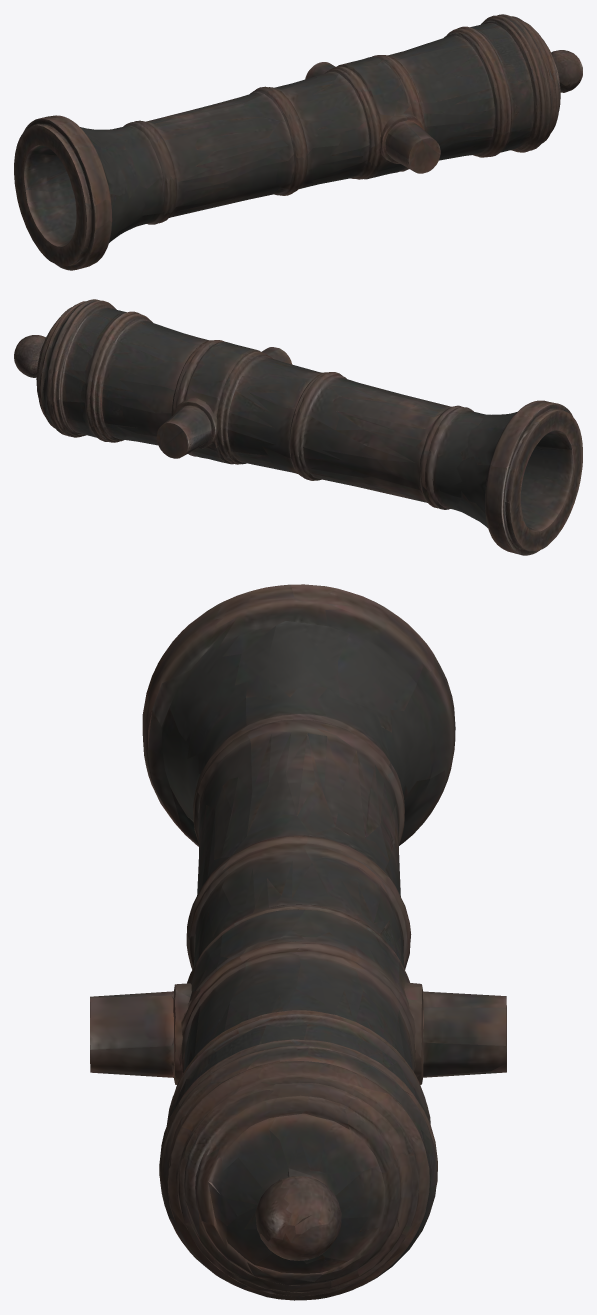
File: pirat-rohr.glb
3 renders of one model, top to bottom at view 1: azimuth 30°, elevation 25°; view 2: azimuth 150°, elevation 25°; view 3: azimuth 270°, elevation 25°, orthographic. The views are drawn at different scales.
Visible parts, largest first — view 1: Mesh_0; view 2: Mesh_0; view 3: Mesh_0.
Boxes of the visible parts, box(x1,y1,x2,y2) form: Mesh_0: box(14, 14, 582, 270); Mesh_0: box(14, 299, 582, 555); Mesh_0: box(90, 584, 506, 1300).
Size of the model in its own units: 1.9 by 0.4827 by 0.6475.
Materials: 1 (1 with a texture image).
